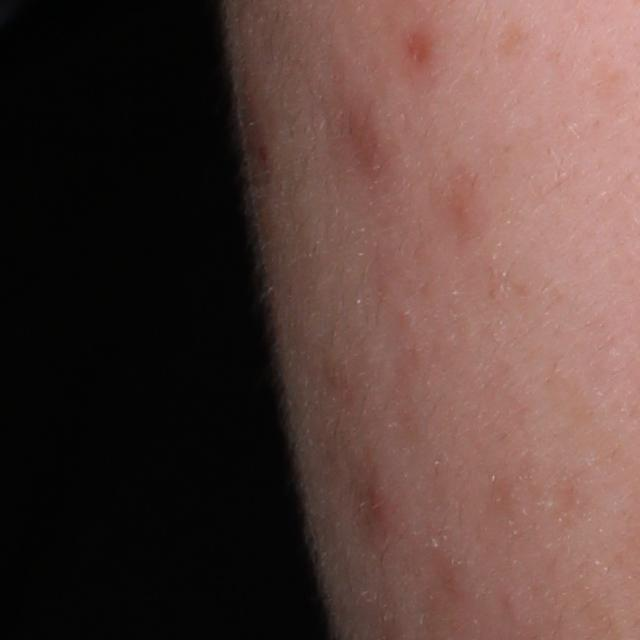papule: (364, 484, 388, 523)
